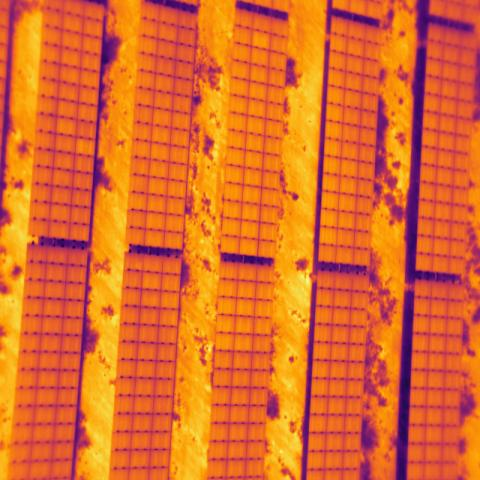fault: (252, 29, 271, 51)
